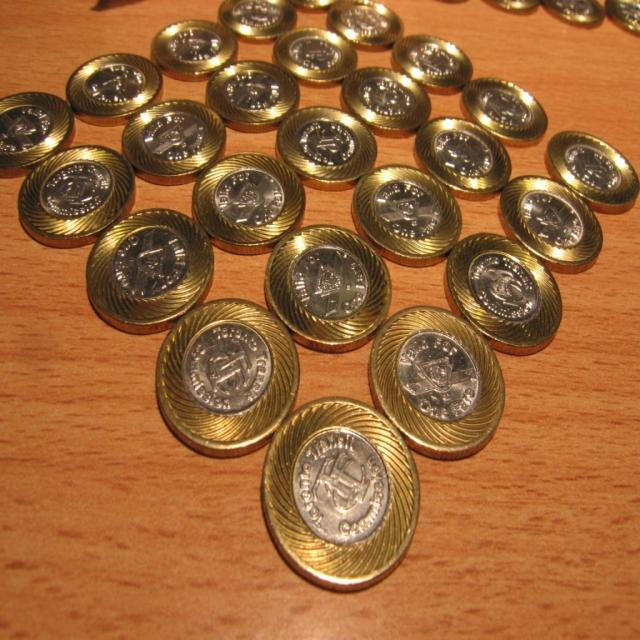Coin: (0, 0, 639, 590), (603, 1, 639, 38), (543, 0, 601, 22), (489, 0, 542, 16)
